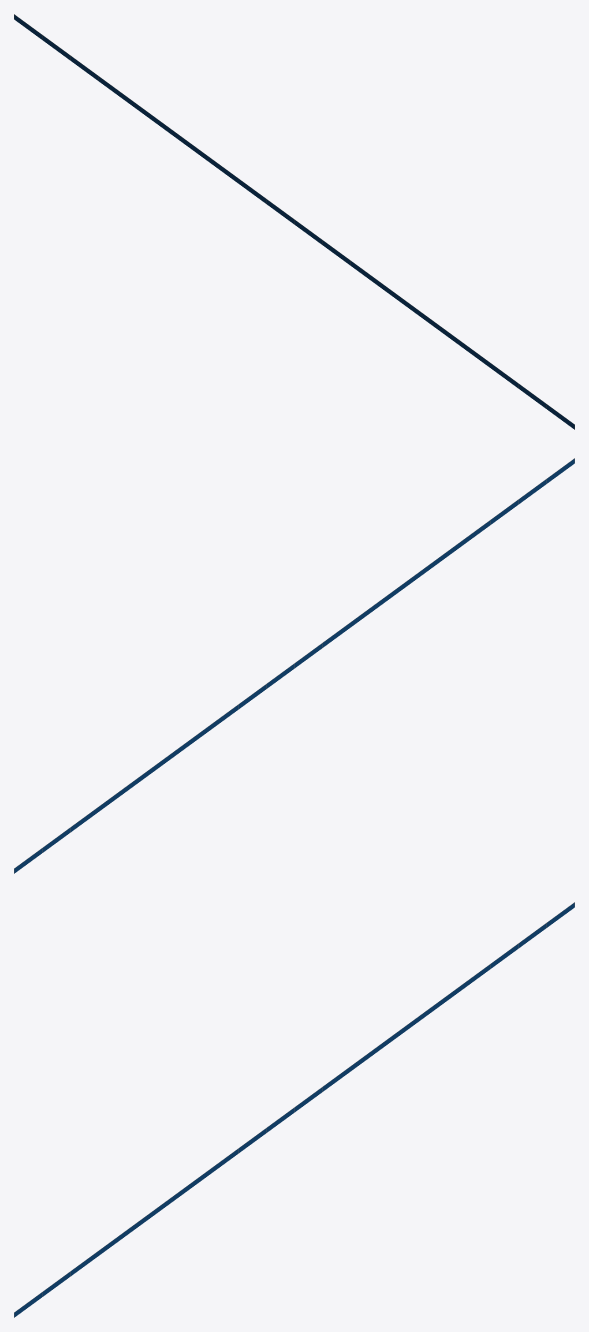
Rendered from OuterFence1.fbx.
3 renders of one model, top to bottom at view 1: azimuth 30°, elevation 25°; view 2: azimuth 150°, elevation 25°; view 3: azimuth 330°, elevation 25°, orthographic.
Visible parts, largest first — view 1: OuterFence1; view 2: OuterFence1; view 3: OuterFence1.
Part boxes in pixels (box(x1,y1,x2,y2)): OuterFence1: box(14, 14, 574, 429); OuterFence1: box(14, 458, 574, 873); OuterFence1: box(14, 902, 574, 1317).
Bounding box in the file's own units: 0.0708 × 2.22 × 425.
